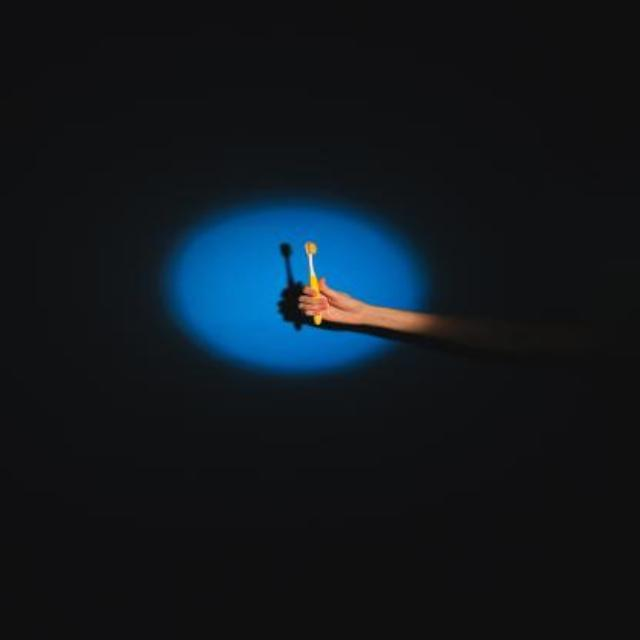toothbrush: (293, 234, 337, 330)
